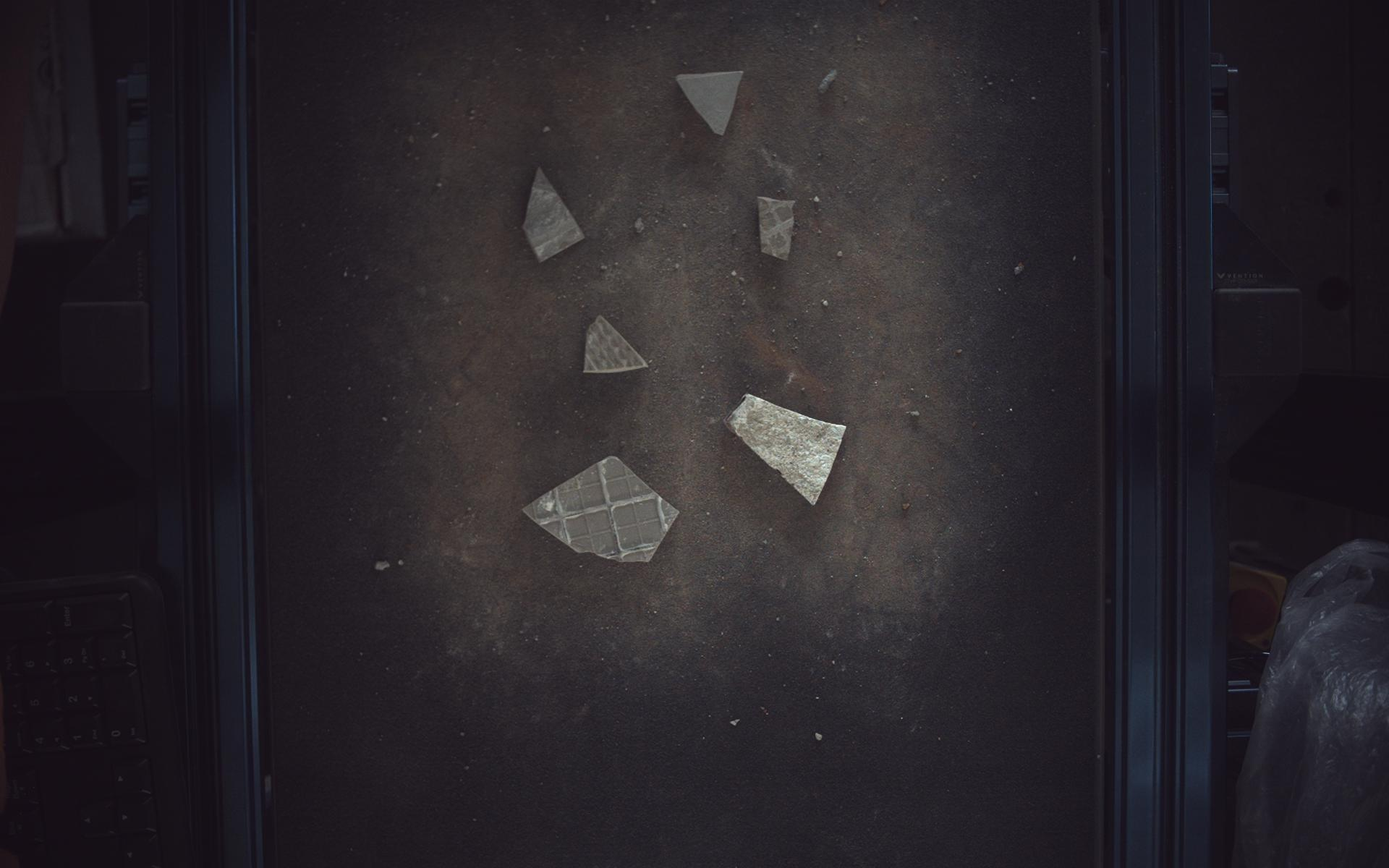tile: (524, 456, 680, 563), (726, 394, 846, 505), (523, 166, 585, 261), (677, 69, 744, 134), (584, 315, 649, 373), (759, 196, 797, 260)
